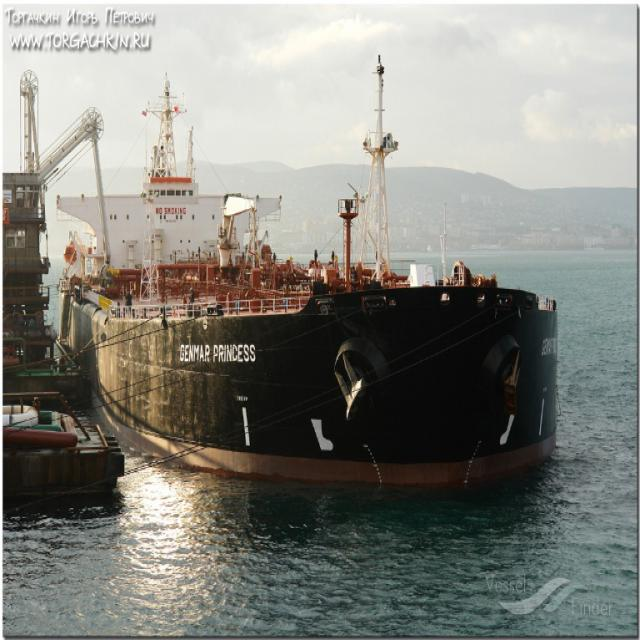Oil Tanker: (55, 76, 558, 483)
